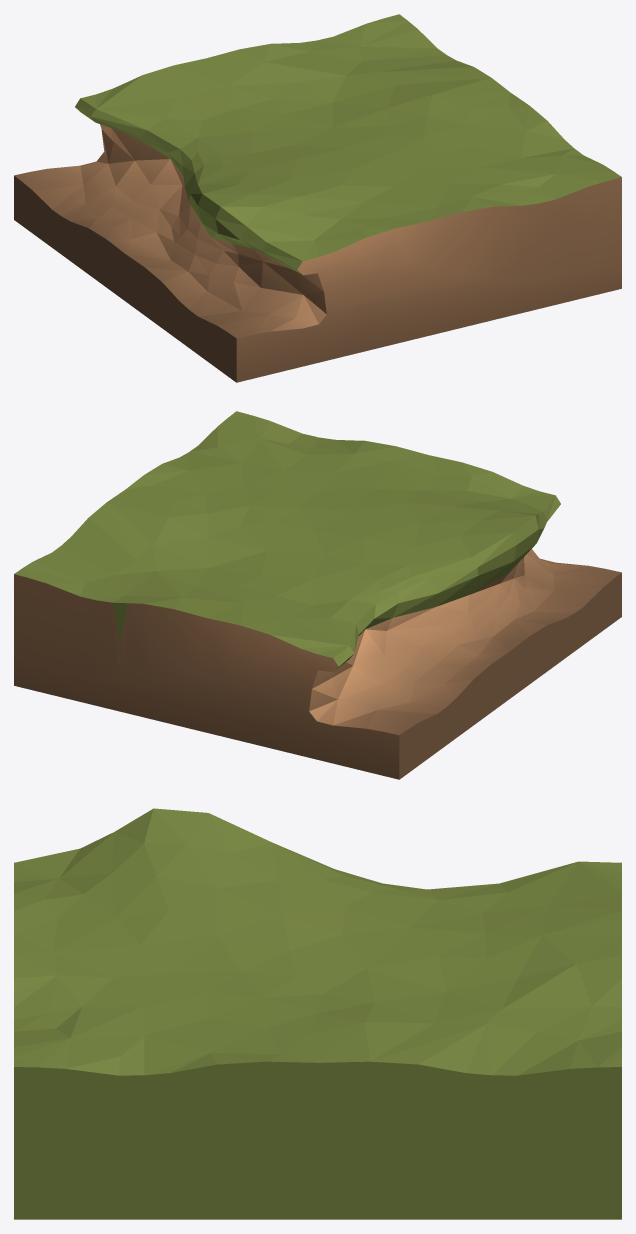
The model's file is Terrian_Cliff_Flat_Straight-03.fbx.
3 renders of one model, top to bottom at view 1: azimuth 30°, elevation 25°; view 2: azimuth 150°, elevation 25°; view 3: azimuth 270°, elevation 25°, orthographic. The views are drawn at different scales.
Visible parts, largest first — view 1: Terrian_Cliff_Flat_Straight-03; view 2: Terrian_Cliff_Flat_Straight-03; view 3: Terrian_Cliff_Flat_Straight-03.
Part boxes in pixels (x1,y1,x2,y2): Terrian_Cliff_Flat_Straight-03: (14, 14, 621, 382); Terrian_Cliff_Flat_Straight-03: (14, 411, 621, 779); Terrian_Cliff_Flat_Straight-03: (14, 808, 621, 1219).
Size of the model in its own units: 3600 by 1161 by 3600.
1 material, 1 textured.
